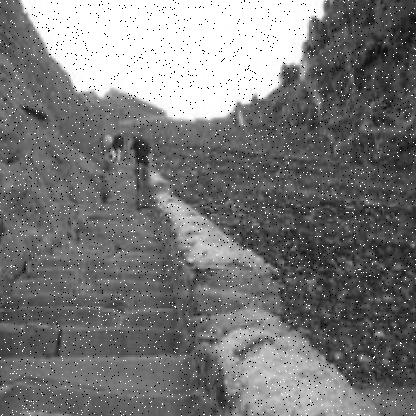stair_up: (0, 249, 198, 406)
